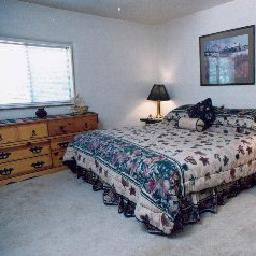Cama: (65, 109, 255, 203)
